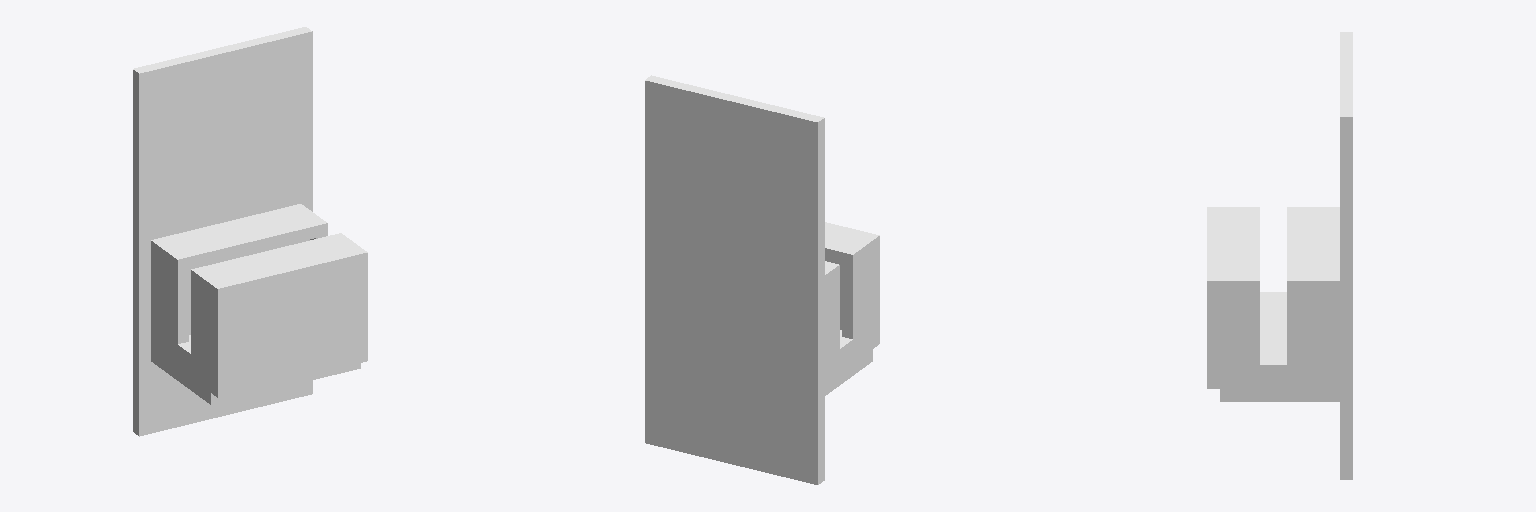
The model's file is Airdryer.obj.
The picture shows the model from 3 angles: view 1: azimuth 30°, elevation 25°; view 2: azimuth 150°, elevation 25°; view 3: azimuth 270°, elevation 25°; orthographic projection.
Parts seen in each view (by area): view 1: object 1; view 2: object 1; view 3: object 1.
Boxes of the visible parts, box(x1,y1,x2,y2) form: object 1: box(133, 27, 367, 436); object 1: box(645, 75, 879, 484); object 1: box(1207, 32, 1352, 479).
Bounding box in the file's own units: 1.5 × 3 × 1.1.